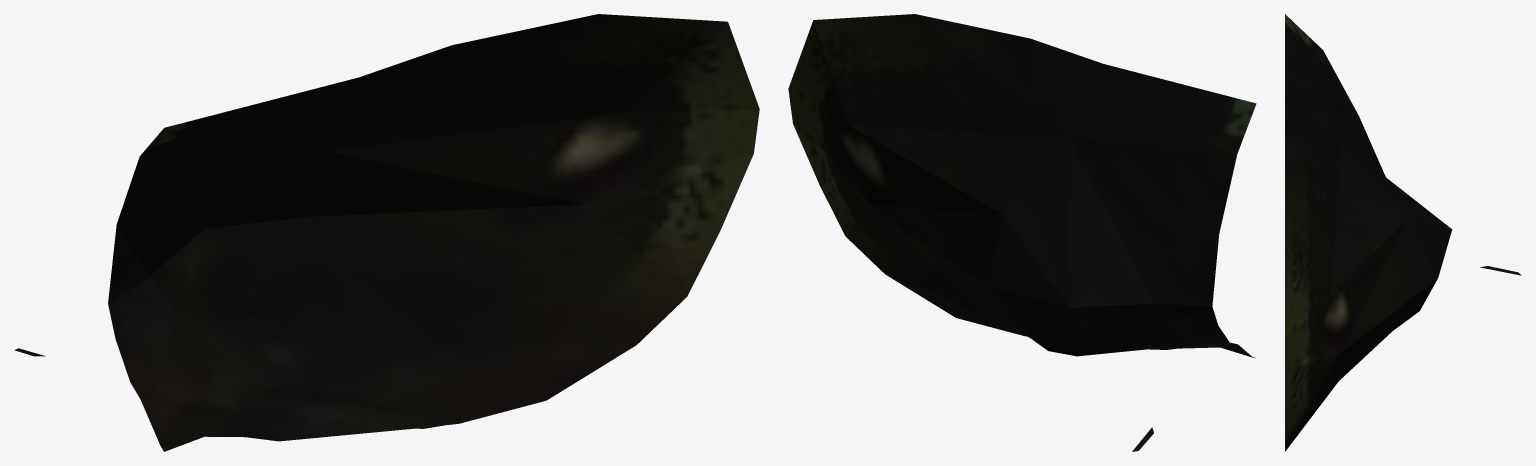
The picture shows the model from 3 angles, left to right: view 1: azimuth 30°, elevation 25°; view 2: azimuth 150°, elevation 25°; view 3: azimuth 270°, elevation 25°; orthographic projection. The views are drawn at different scales.
Bounding box in the file's own units: 0.577 × 0.3521 × 0.2555.
Materials: 1 (1 with a texture image).
